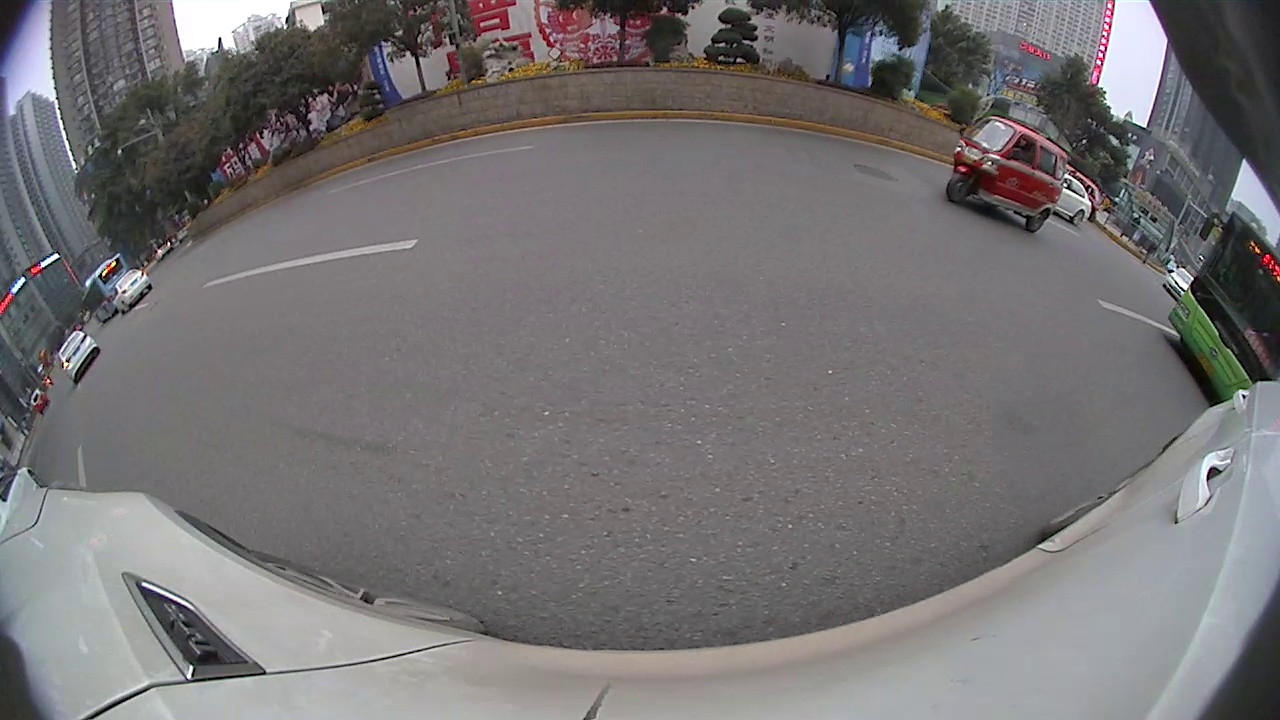bus: (1165, 207, 1278, 405), (79, 251, 137, 326)
car: (0, 463, 46, 534), (55, 329, 102, 384), (109, 268, 154, 314), (1051, 176, 1091, 227), (1165, 263, 1195, 297)
front: (940, 171, 976, 203)
rear: (1023, 206, 1046, 235), (1071, 209, 1087, 230)
rider: (941, 113, 1064, 233), (1062, 164, 1101, 220)
